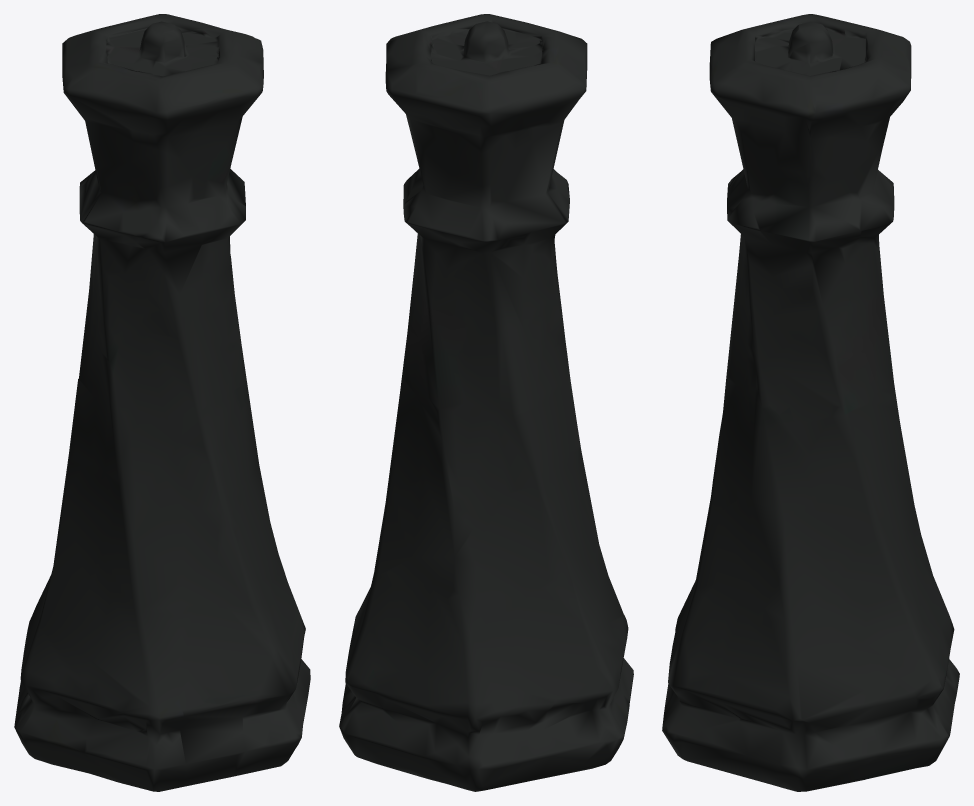
The model's file is hexa_queen_black.glb.
3 renders of one model, left to right at view 1: azimuth 30°, elevation 25°; view 2: azimuth 150°, elevation 25°; view 3: azimuth 270°, elevation 25°, orthographic.
Size of the model in its own units: 0.8323 by 2 by 0.7622.
1 material, 1 textured.
